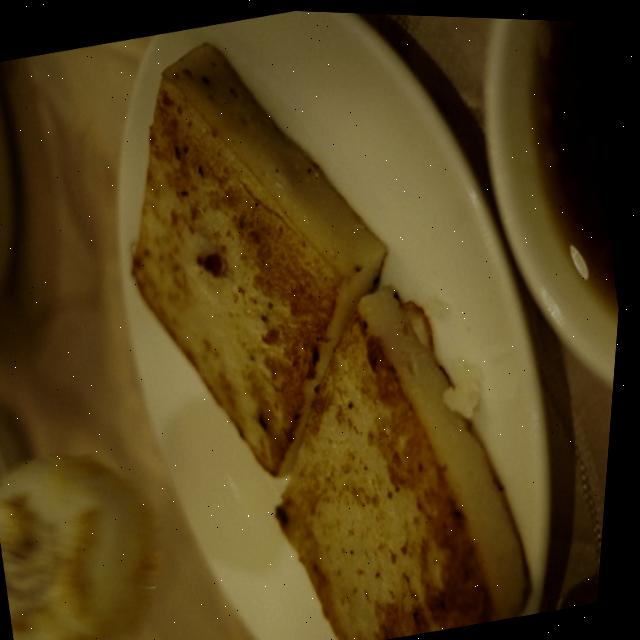蛋糕甜品: (17, 2, 602, 640)
